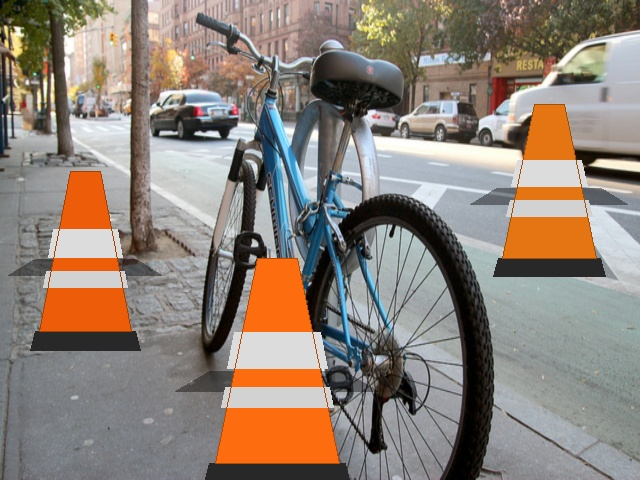traffic-cone: (203, 258, 351, 479), (30, 171, 140, 350), (493, 104, 605, 276)
